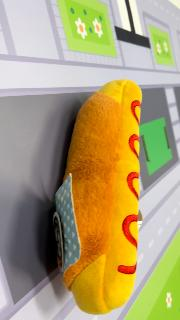hotdog: (55, 78, 144, 316)
